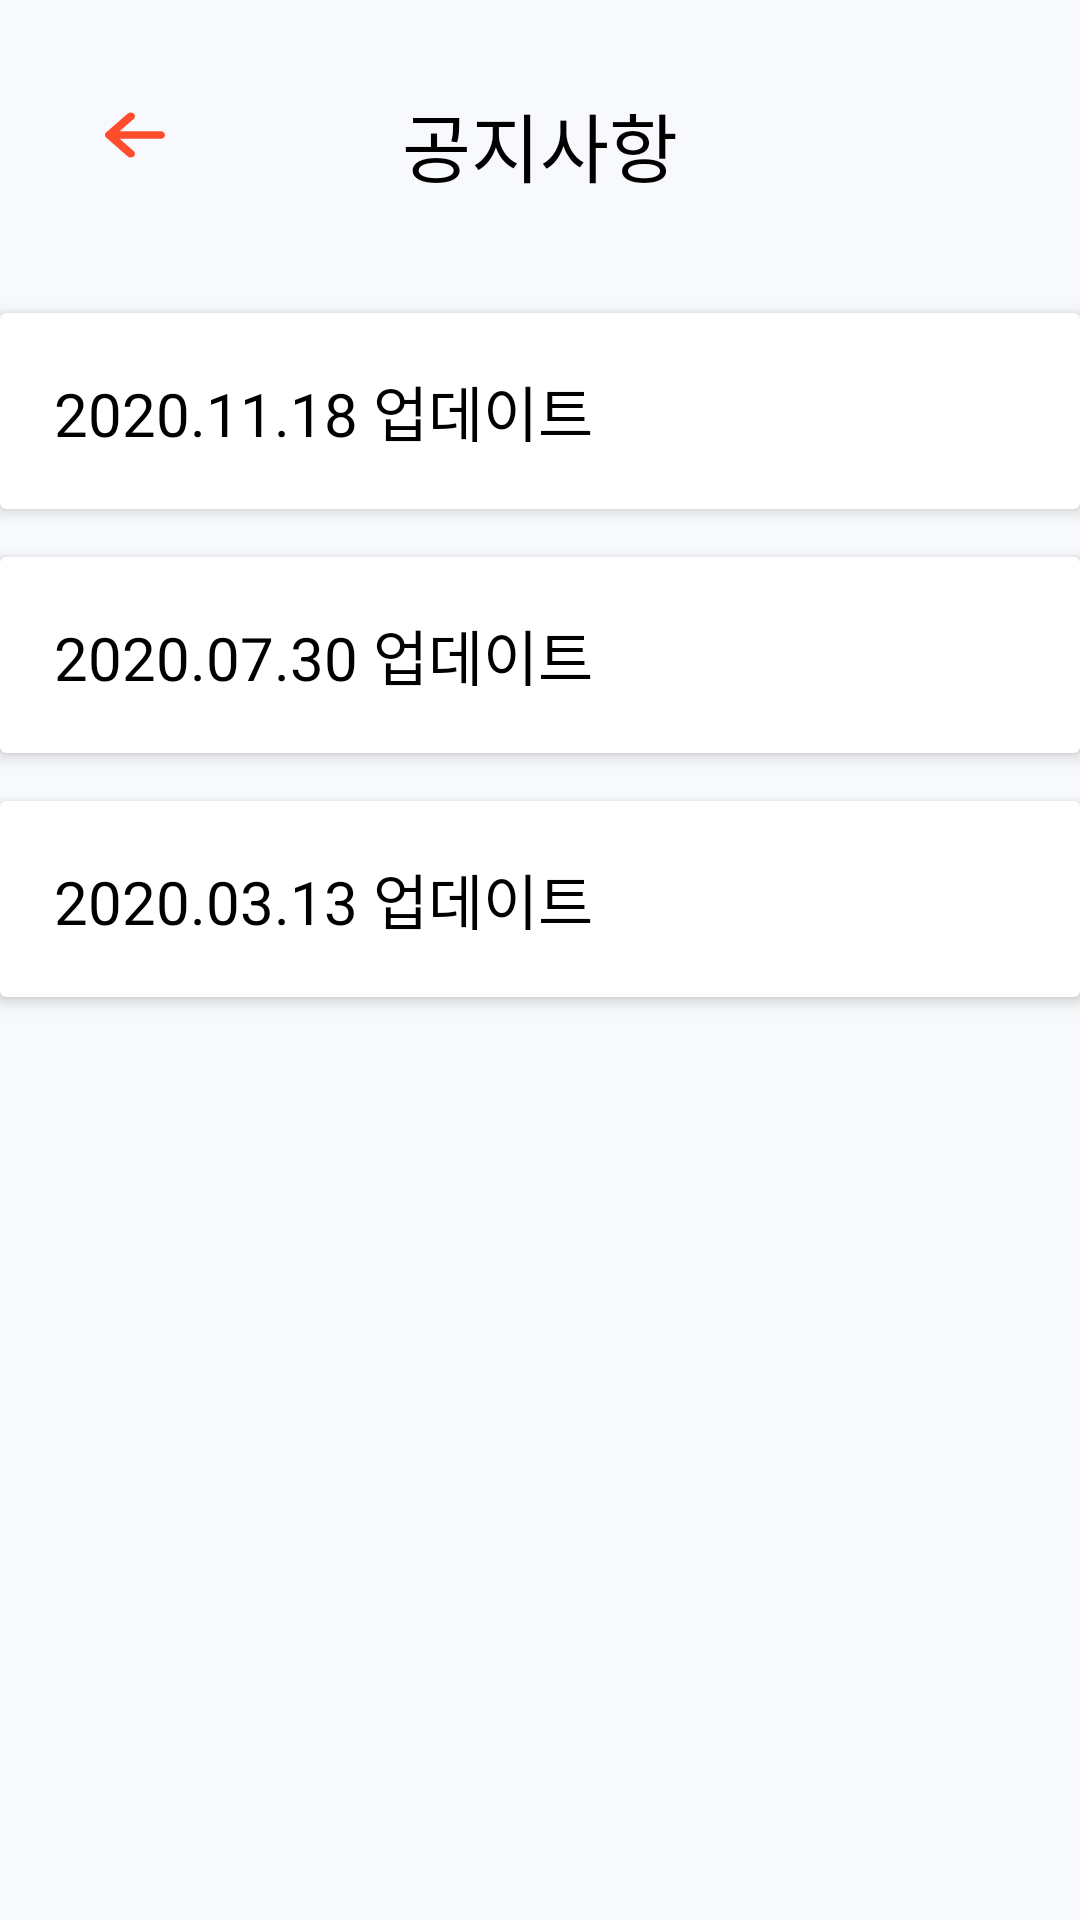

Icon bounding boxes for this 1080px x 1920px phone screenshot, format (x1=x1, y1=y1, x2=x2, y2=y2):
back key: (x1=105, y1=112, x2=165, y2=158)
